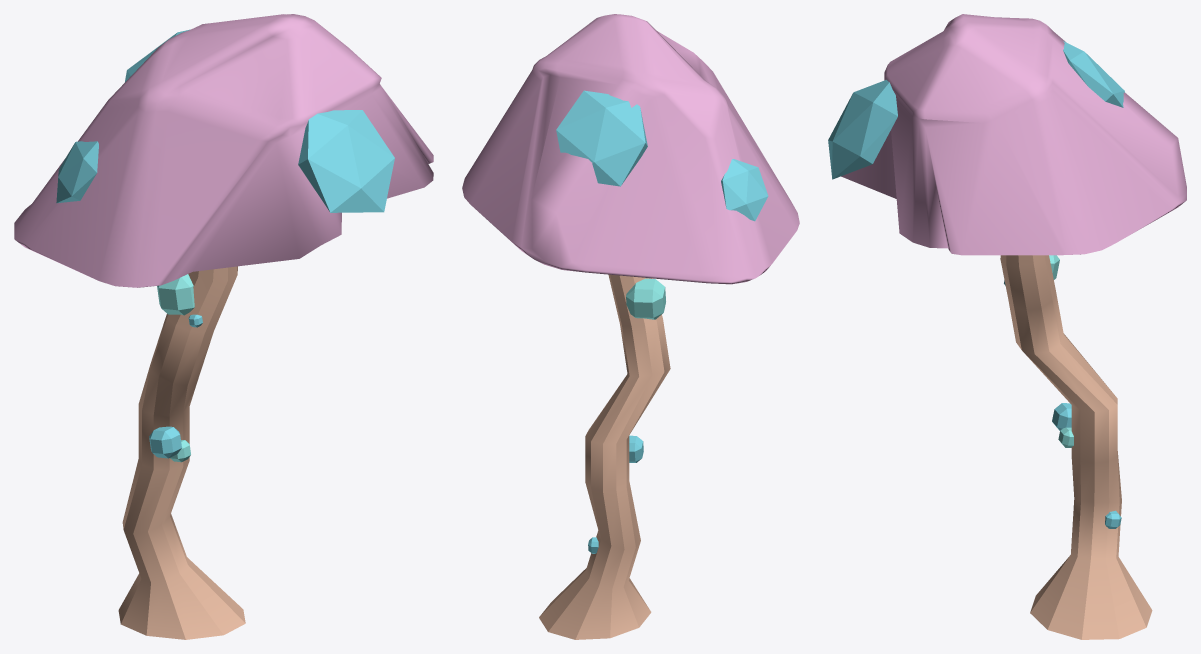
File: Mush14.fbx
3 views of the same model, side by side, from view 1: azimuth 30°, elevation 25°; view 2: azimuth 150°, elevation 25°; view 3: azimuth 270°, elevation 25° (orthographic). The views are drawn at different scales.
Visible parts, largest first — view 1: group22_pasted__group14_pasted__pasted__group13_pasted__past; view 2: group22_pasted__group14_pasted__pasted__group13_pasted__past; view 3: group22_pasted__group14_pasted__pasted__group13_pasted__past.
Part boxes in pixels (x1,y1,x2,y2): group22_pasted__group14_pasted__pasted__group13_pasted__past: [14, 14, 433, 639]; group22_pasted__group14_pasted__pasted__group13_pasted__past: [462, 14, 799, 639]; group22_pasted__group14_pasted__pasted__group13_pasted__past: [828, 14, 1186, 639].
Size of the model in its own units: 3.38 by 5.77 by 3.08.
